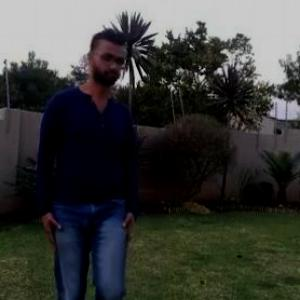follow: (39, 52, 141, 299)
